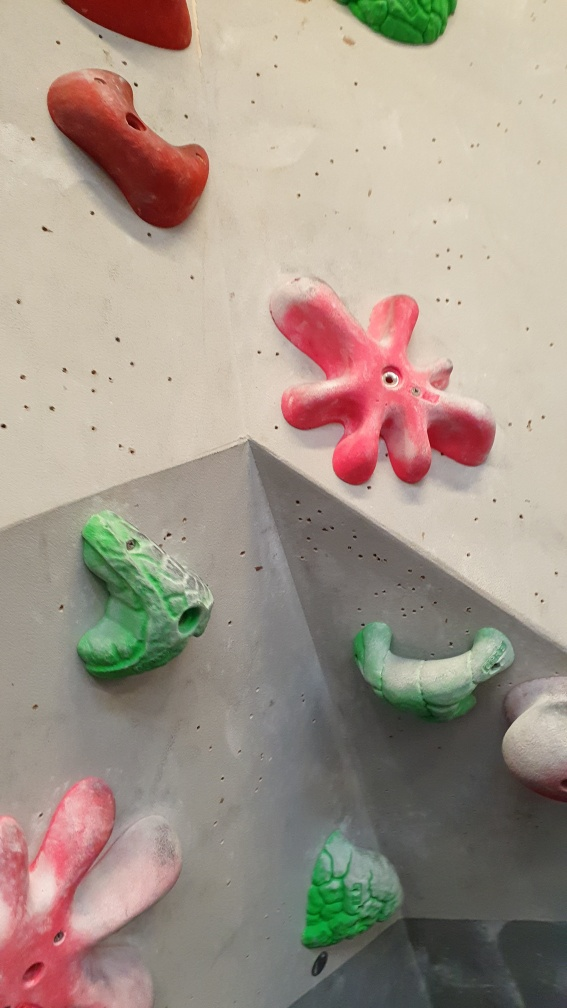Hand Start: (305, 950, 333, 977)
Jug: (351, 616, 514, 728), (299, 832, 410, 952)
Octopus Pinch: (272, 269, 502, 490), (1, 771, 182, 1004)
Sloper: (500, 687, 567, 808)
